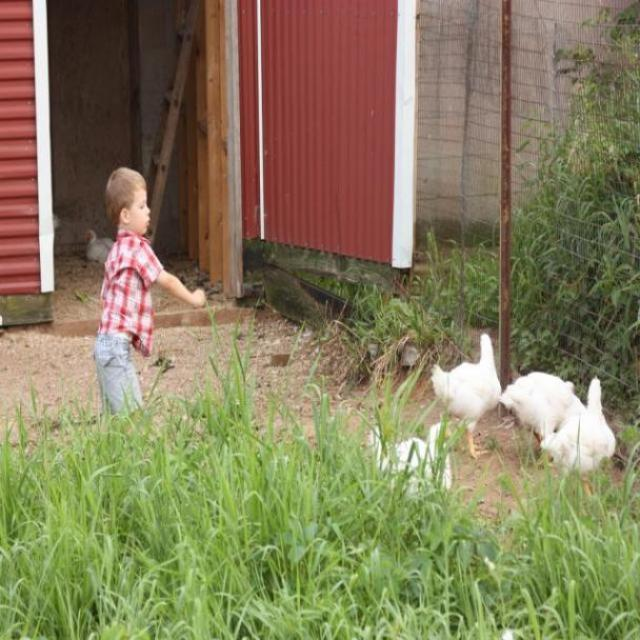Chicken: (535, 372, 619, 529), (496, 372, 590, 477), (432, 331, 503, 453), (369, 416, 469, 492)
